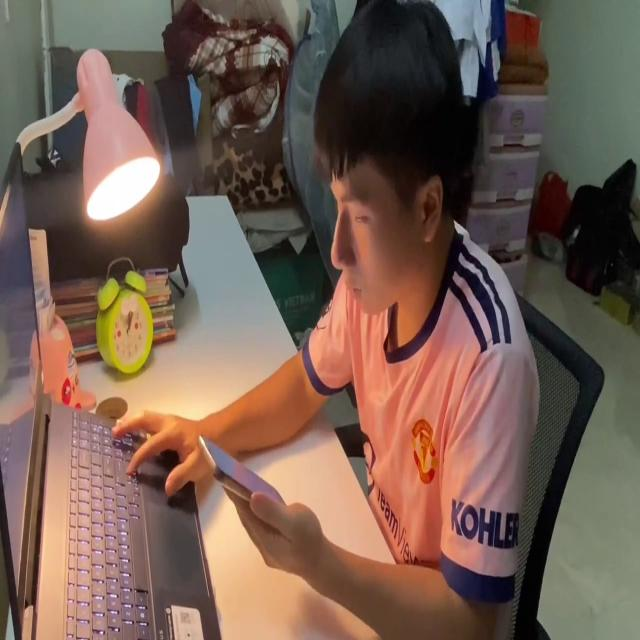laptop: (0, 134, 224, 640)
phone: (198, 429, 296, 523)
student: (106, 6, 542, 640)
